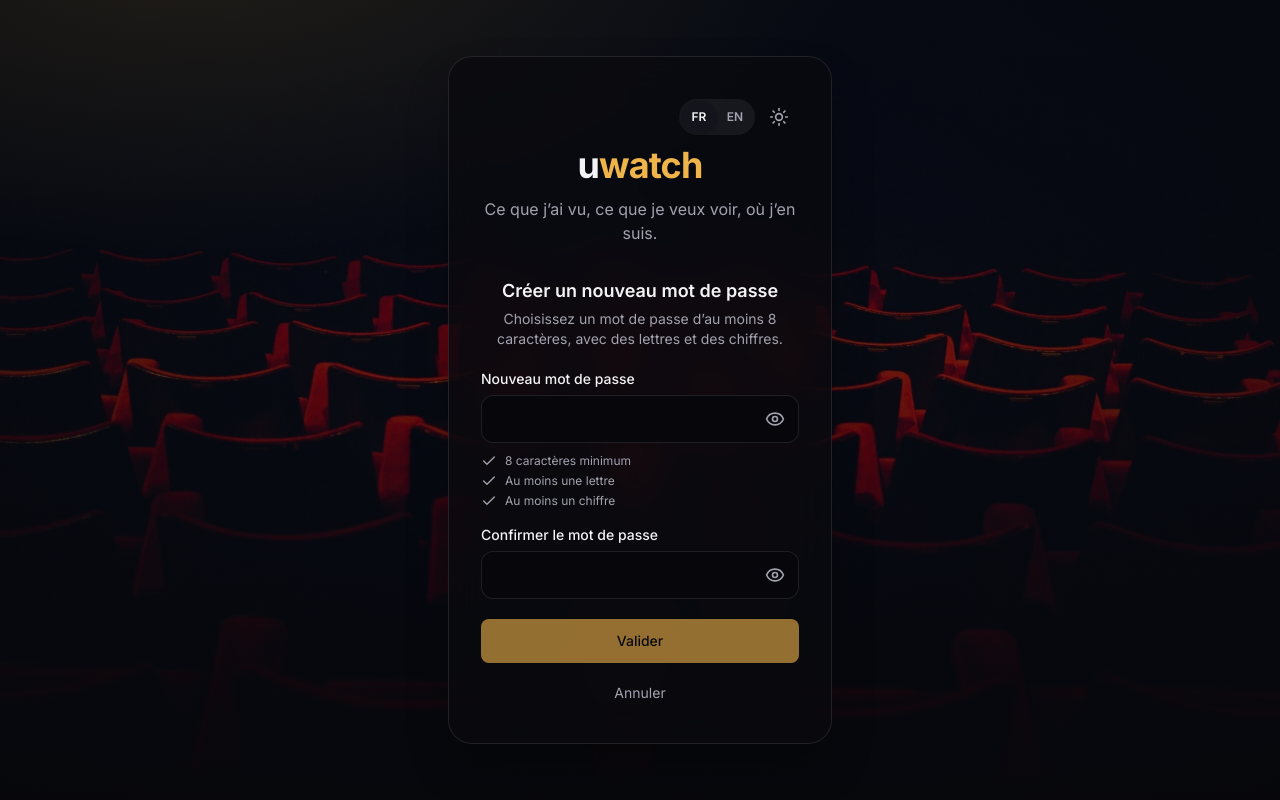
Test case: ResetPasswordPage › keeps Valider disabled until the form is valid
Expected: the button "Valider" is disabled, 481,619 -> 799,663
Type "court1" into the password field labelled "Nouveau mot de passe" at (640, 419), box 481,395 -> 799,443
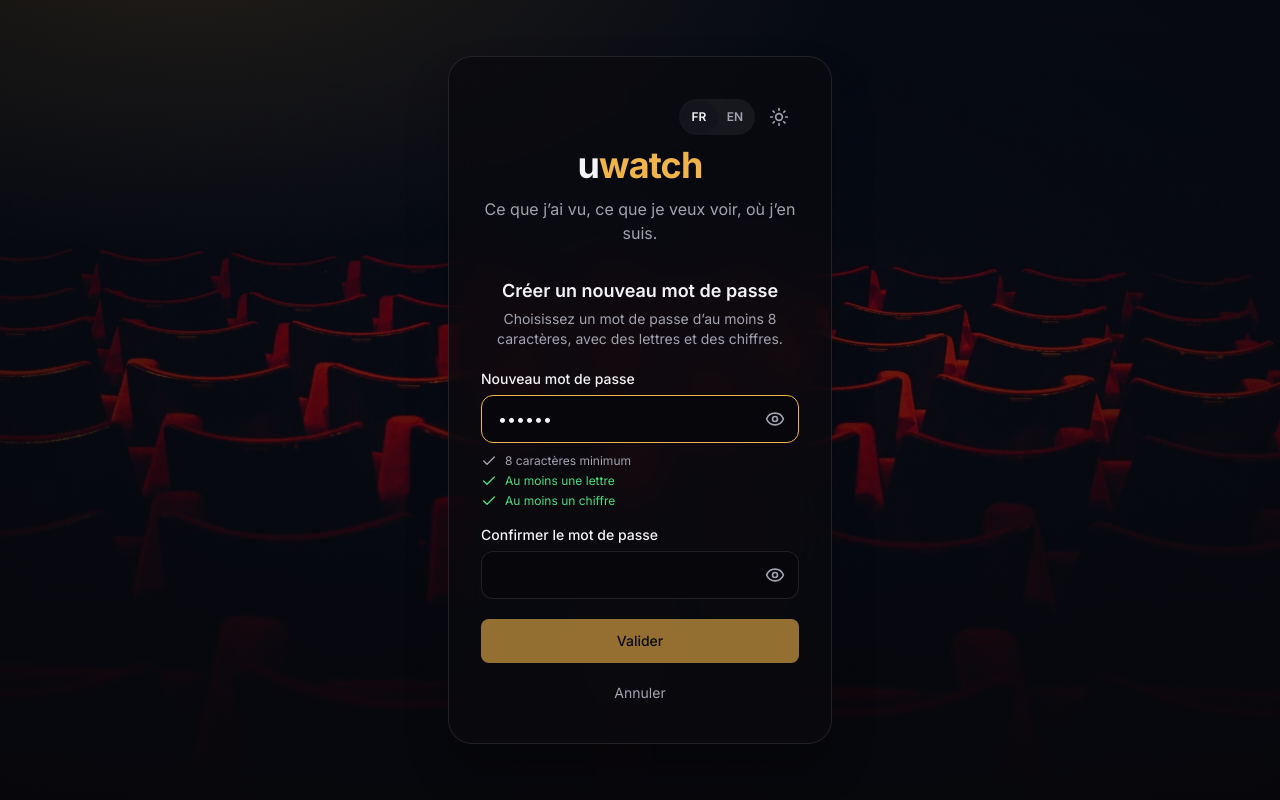
Type "court1" into the password field labelled "Confirmer le mot de passe" at (640, 575), box 481,551 -> 799,599
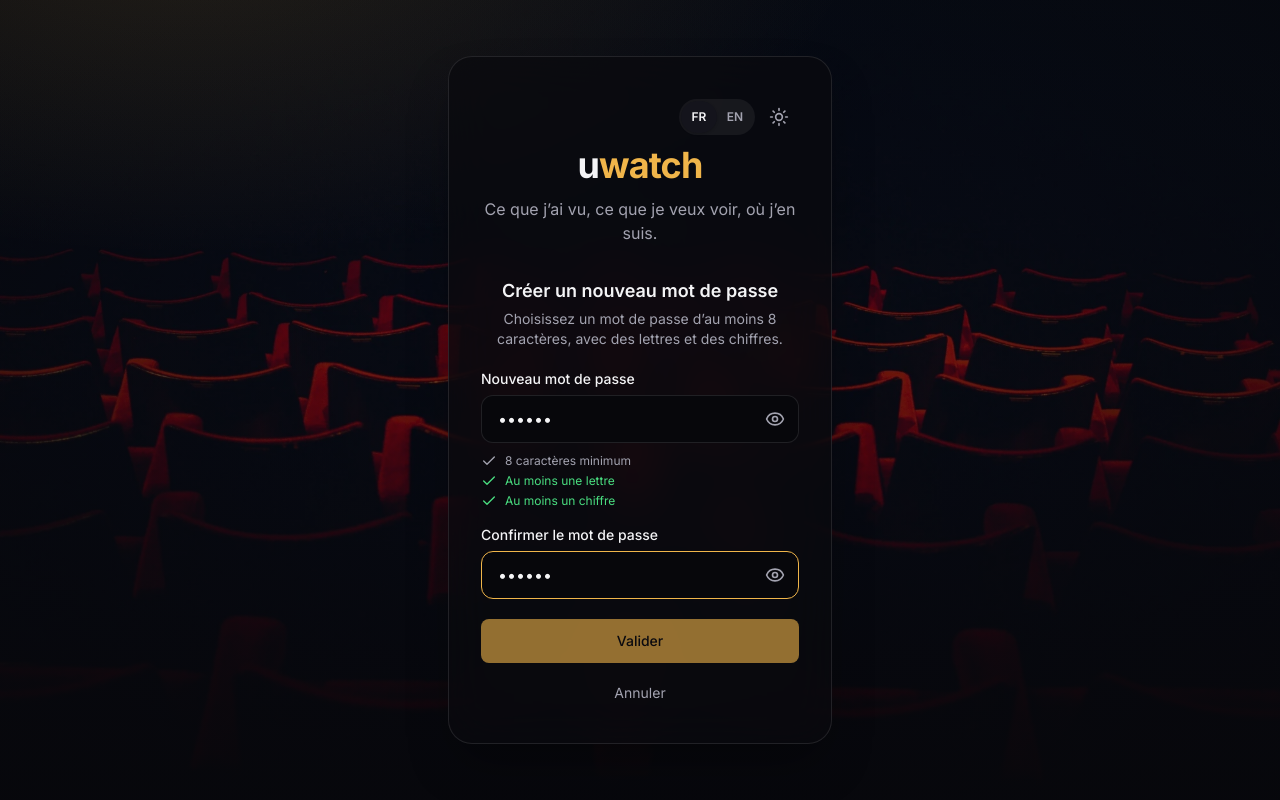
Expected: the button "Valider" is disabled, 481,619 -> 799,663
Clear the password field labelled "Nouveau mot de passe" at (640, 419), box 481,395 -> 799,443
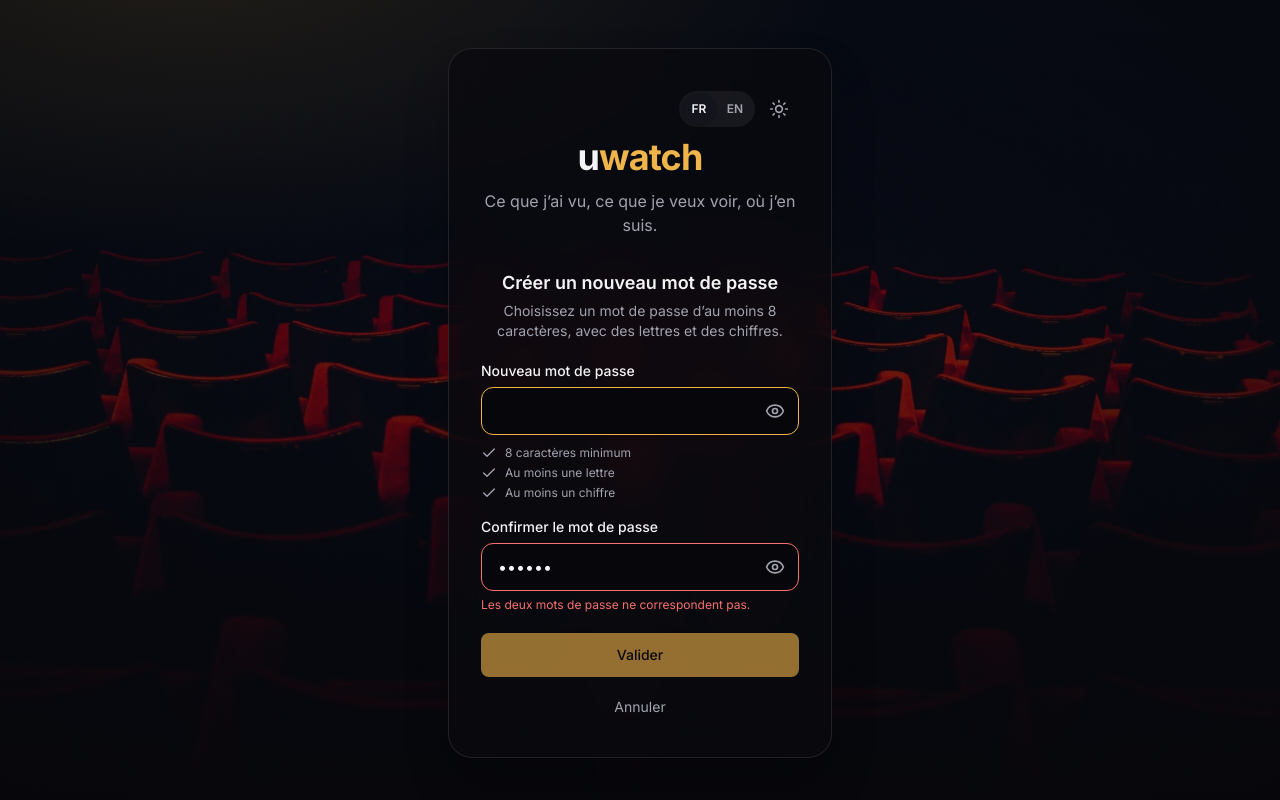
Type "nouveau123" into the password field labelled "Nouveau mot de passe" at (640, 411), box 481,387 -> 799,435
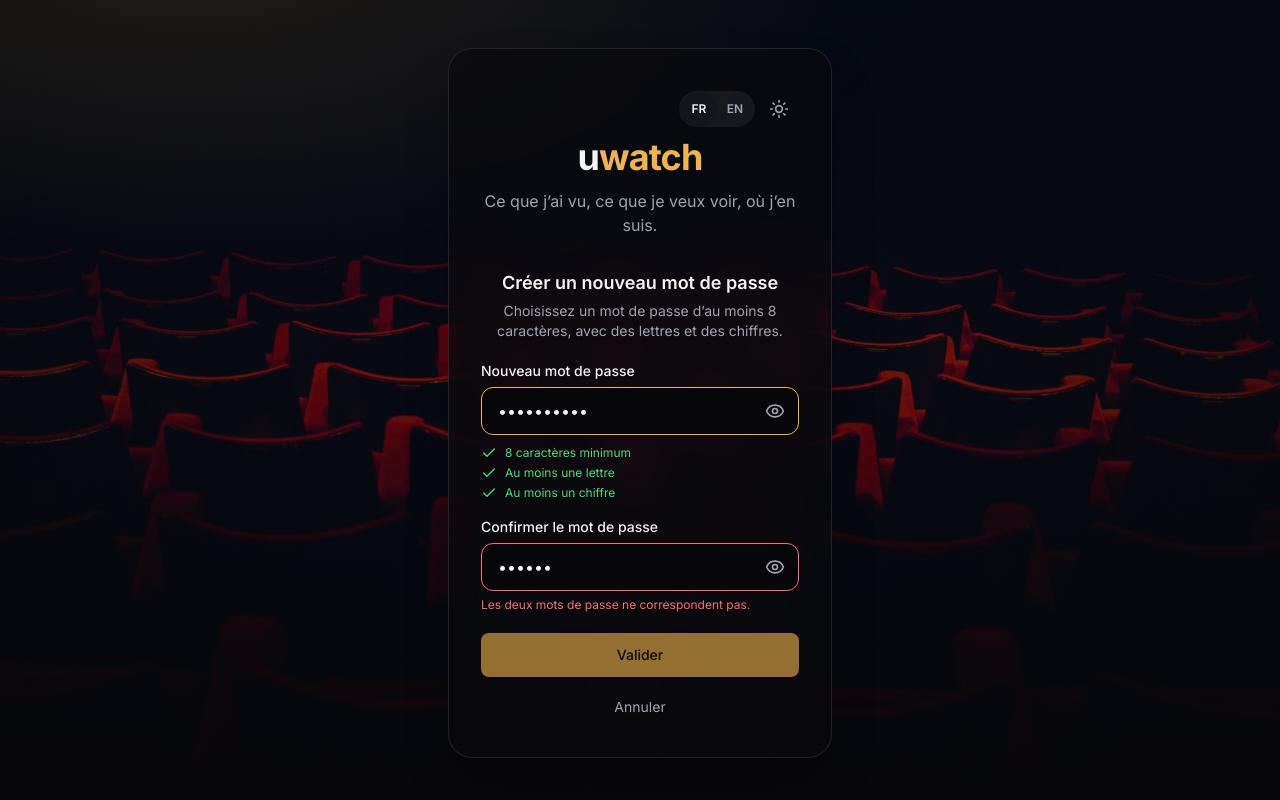
Expected: the button "Valider" is disabled, 481,633 -> 799,677
Result: the text "Les deux mots de passe ne correspondent pas." is shown at 481,597 -> 750,612
Type "nouveau123" into the password field labelled "Confirmer le mot de passe" at (640, 567), box 481,543 -> 799,591
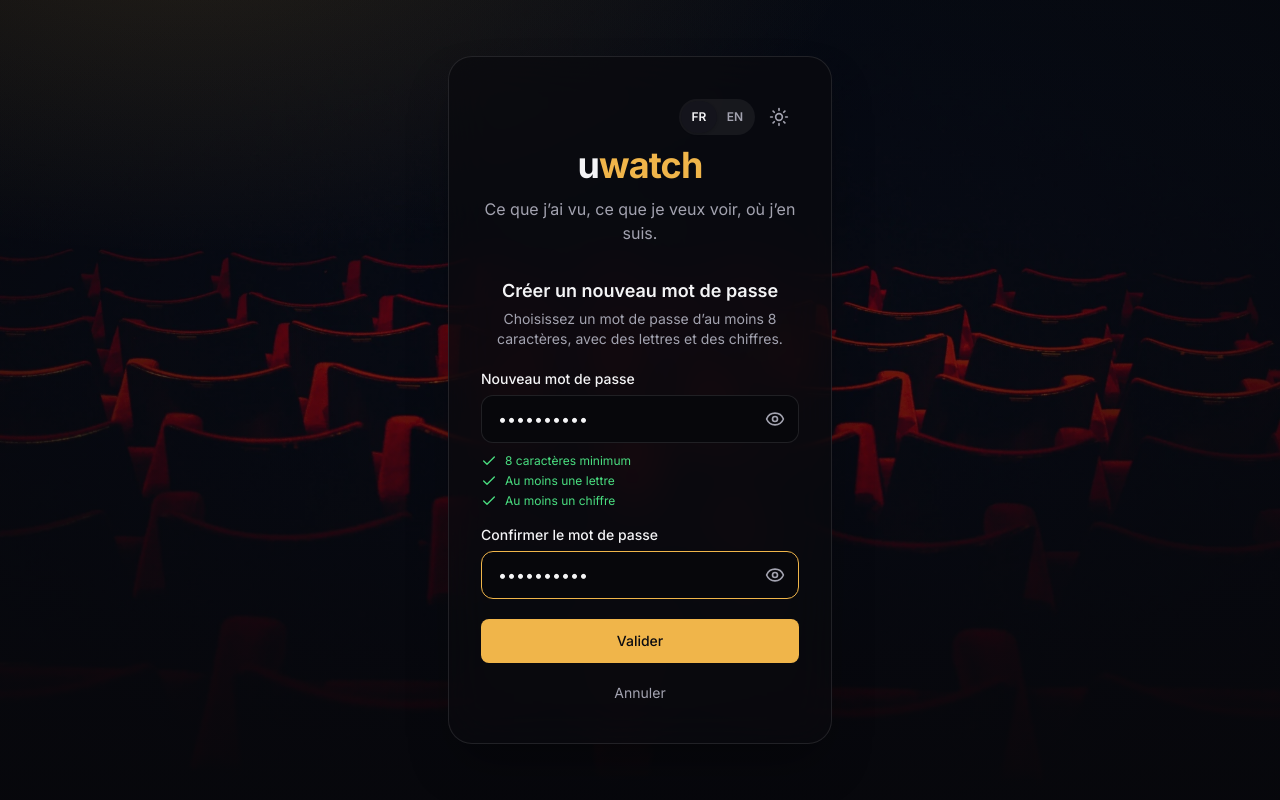
Result: the button "Valider" is enabled at 481,619 -> 799,663
Result: the text "Les deux mots de passe ne correspondent pas." is gone
